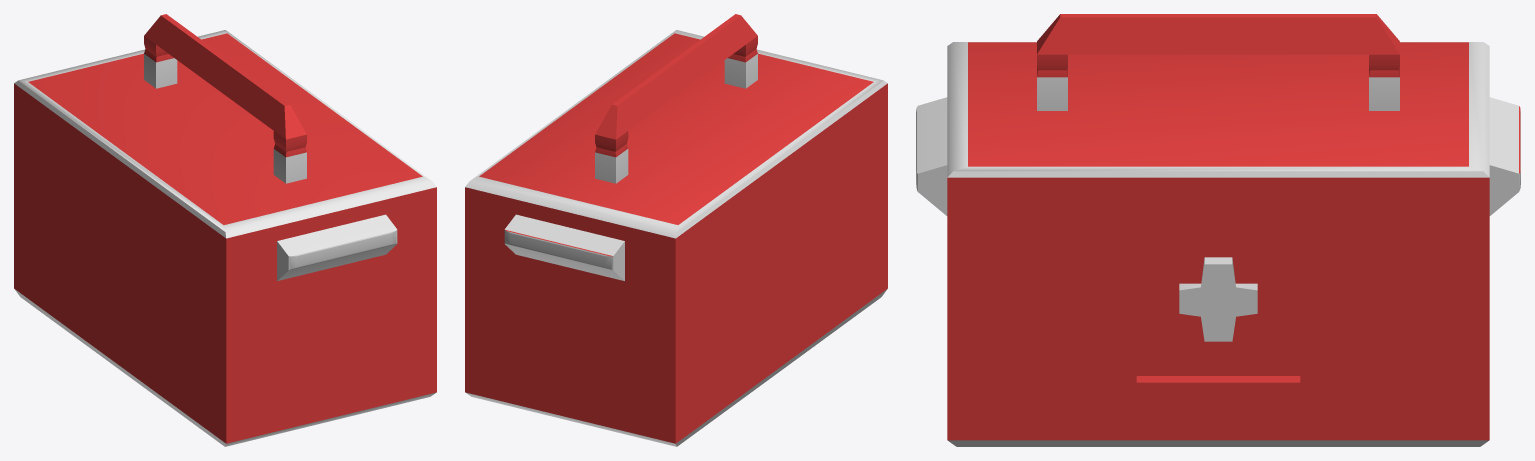
File: Medikit.fbx
3 views of the same model, side by side, from view 1: azimuth 30°, elevation 25°; view 2: azimuth 150°, elevation 25°; view 3: azimuth 270°, elevation 25° (orthographic). The views are drawn at different scales.
Visible parts, largest first — view 1: Medikit; view 2: Medikit; view 3: Medikit.
Boxes of the visible parts, x1=… form: Medikit: x1=14, y1=14, x2=436, y2=446; Medikit: x1=465, y1=14, x2=887, y2=446; Medikit: x1=916, y1=14, x2=1520, y2=446.
Size of the model in its own units: 50 by 65.72 by 97.19.
